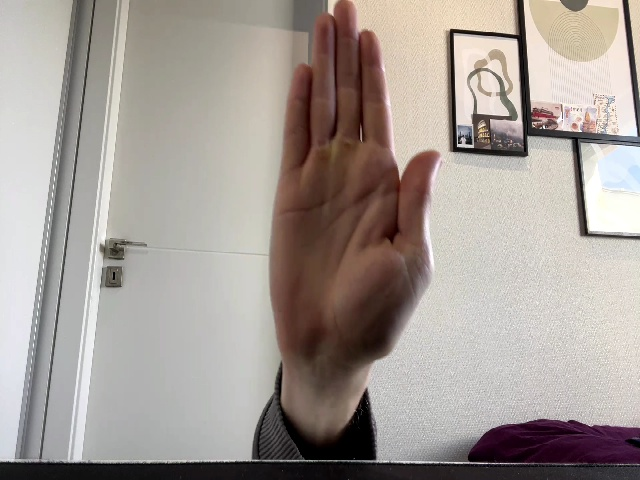B: (269, 1, 441, 374)
